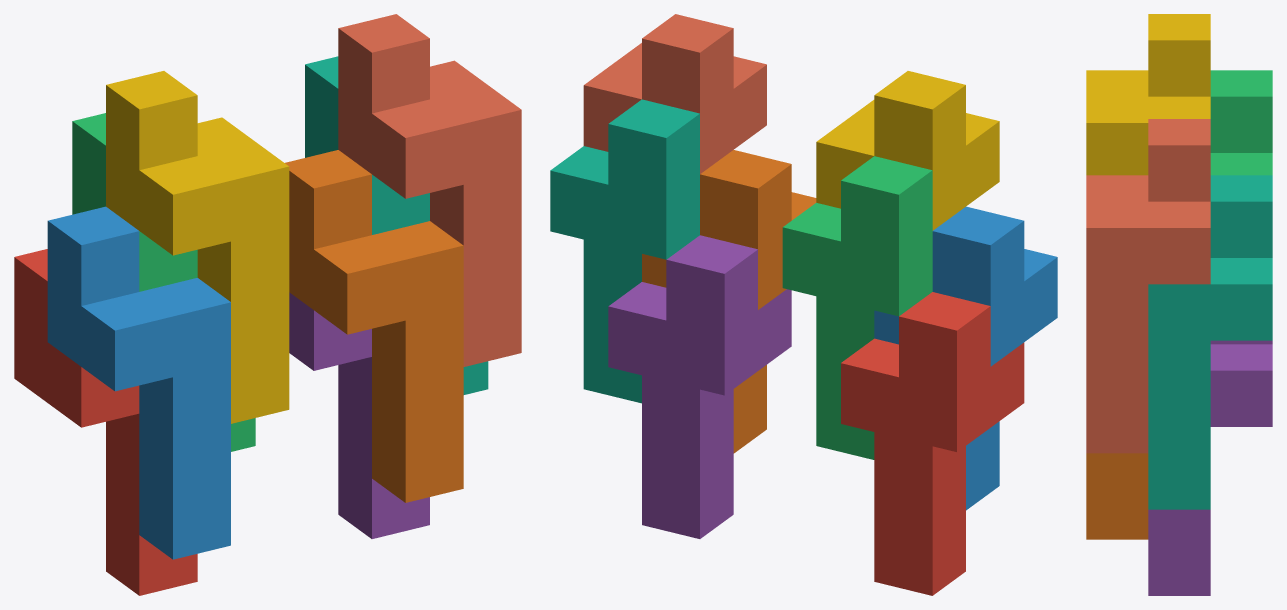
The model's file is tiling.obj.
The picture shows the model from 3 angles, left to right: view 1: azimuth 30°, elevation 25°; view 2: azimuth 150°, elevation 25°; view 3: azimuth 270°, elevation 25°; orthographic projection. The views are drawn at different scales.
Parts seen in each view (by area): view 1: copy_1_domain_2, copy_1_domain_6, copy_1_domain_4, copy_1_domain_8, copy_1_domain_1, copy_1_domain_5, copy_1_domain_3, copy_1_domain_7; view 2: copy_1_domain_1, copy_1_domain_5, copy_1_domain_3, copy_1_domain_7, copy_1_domain_4, copy_1_domain_8, copy_1_domain_2, copy_1_domain_6; view 3: copy_1_domain_8, copy_1_domain_7, copy_1_domain_4, copy_1_domain_5, copy_1_domain_3, copy_1_domain_6.
Part boxes in pixels (x1,y1,x2,y2): copy_1_domain_2: [47, 206, 230, 559]; copy_1_domain_6: [285, 150, 463, 502]; copy_1_domain_4: [106, 71, 289, 423]; copy_1_domain_8: [338, 14, 521, 366]; copy_1_domain_1: [14, 249, 197, 595]; copy_1_domain_5: [289, 292, 429, 538]; copy_1_domain_3: [72, 113, 255, 451]; copy_1_domain_7: [305, 56, 488, 394]; copy_1_domain_1: [841, 292, 1024, 595]; copy_1_domain_5: [608, 235, 791, 538]; copy_1_domain_3: [782, 156, 932, 459]; copy_1_domain_7: [550, 99, 699, 403]; copy_1_domain_4: [816, 71, 999, 230]; copy_1_domain_8: [583, 14, 766, 173]; copy_1_domain_2: [874, 206, 1057, 510]; copy_1_domain_6: [642, 150, 816, 453]; copy_1_domain_8: [1086, 119, 1210, 453]; copy_1_domain_7: [1148, 175, 1272, 509]; copy_1_domain_4: [1086, 14, 1210, 175]; copy_1_domain_5: [1148, 340, 1272, 595]; copy_1_domain_3: [1210, 70, 1272, 175]; copy_1_domain_6: [1086, 453, 1148, 539].
Size of the model in its own units: 7 by 8 by 3.
